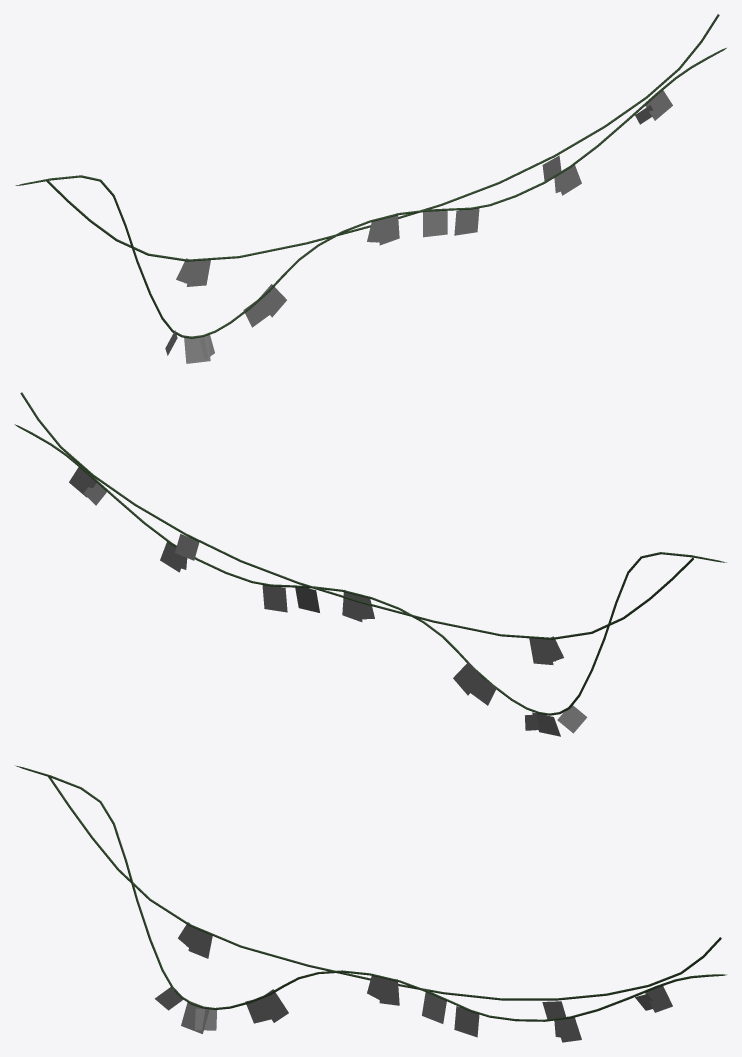
File: SM_lians_03.fbx
3 renders of one model, top to bottom at view 1: azimuth 30°, elevation 25°; view 2: azimuth 150°, elevation 25°; view 3: azimuth 330°, elevation 25°, orthographic.
Parts seen in each view (by area): view 1: Line028; view 2: Line028; view 3: Line028.
Boxes of the visible parts, x1,y1,x2,y2 form: Line028: (15,14,726,363); Line028: (14,392,726,736); Line028: (15,765,726,1042).
Size of the model in its own units: 505 by 11.32 by 148.
